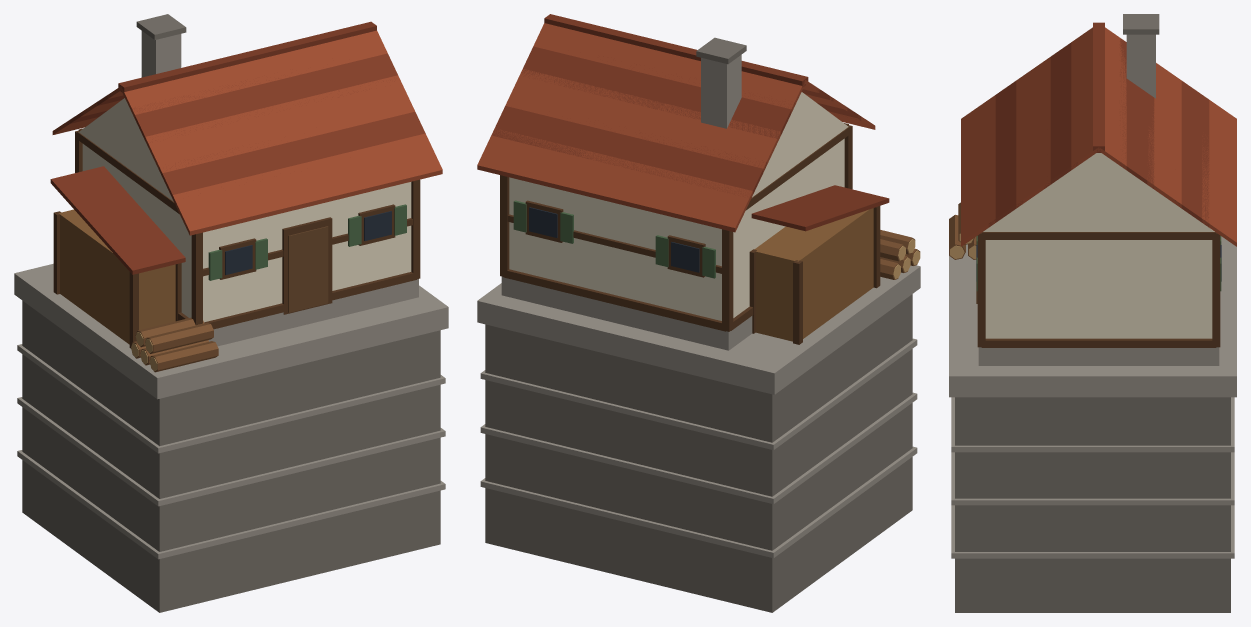
File: house_2.glb
3 renders of one model, left to right at view 1: azimuth 30°, elevation 25°; view 2: azimuth 150°, elevation 25°; view 3: azimuth 270°, elevation 25°, orthographic. The views are drawn at different scales.
Visible parts, largest first — view 1: house_2; view 2: house_2; view 3: house_2.
Boxes of the visible parts, bbox=[...] form: house_2: bbox=[14, 14, 448, 612]; house_2: bbox=[477, 14, 920, 612]; house_2: bbox=[949, 14, 1236, 612].
Size of the model in its own units: 5.76 by 9.4 by 4.91.
